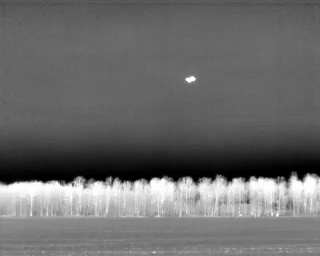DRONE: (181, 71, 200, 87)
